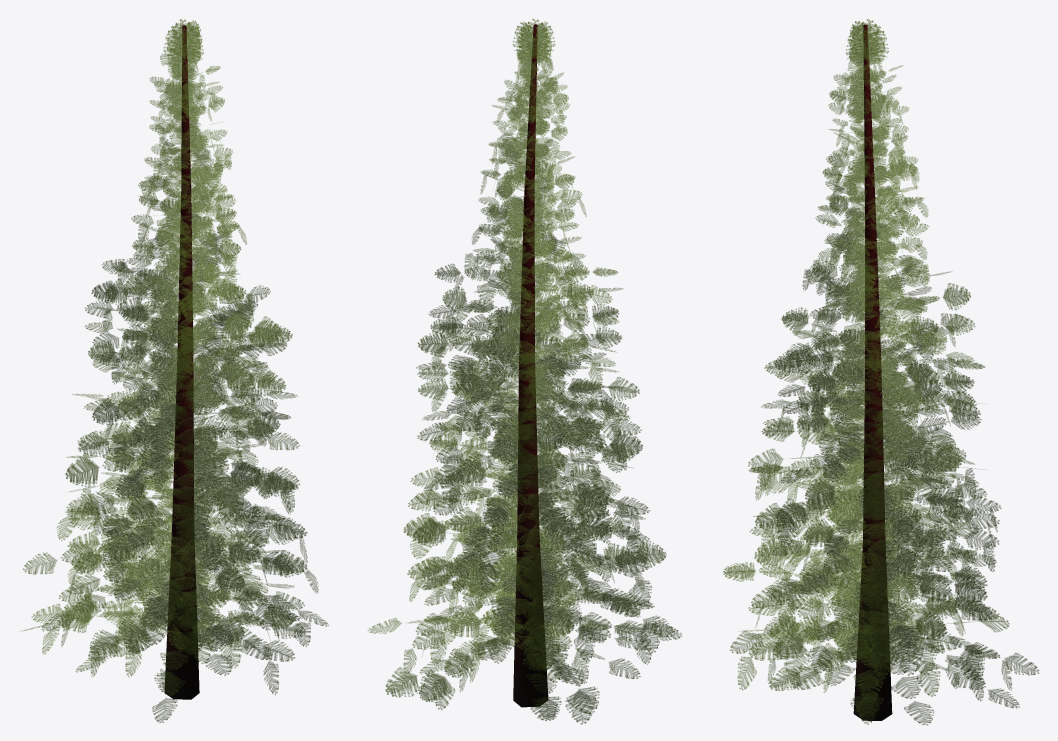
File: larch_sparse_v03_LOD2.glb
The picture shows the model from 3 angles, left to right: view 1: azimuth 30°, elevation 25°; view 2: azimuth 150°, elevation 25°; view 3: azimuth 270°, elevation 25°; orthographic projection. The views are drawn at different scales.
Parts seen in each view (by area): view 1: larch_sparse_v03_LOD2; view 2: larch_sparse_v03_LOD2; view 3: larch_sparse_v03_LOD2.
Boxes of the visible parts, bbox=[...] form: larch_sparse_v03_LOD2: bbox=[22, 19, 328, 722]; larch_sparse_v03_LOD2: bbox=[368, 18, 681, 724]; larch_sparse_v03_LOD2: bbox=[723, 19, 1039, 725].
Size of the model in its own units: 8.87 by 20.21 by 8.66.
2 materials, 2 textured.
